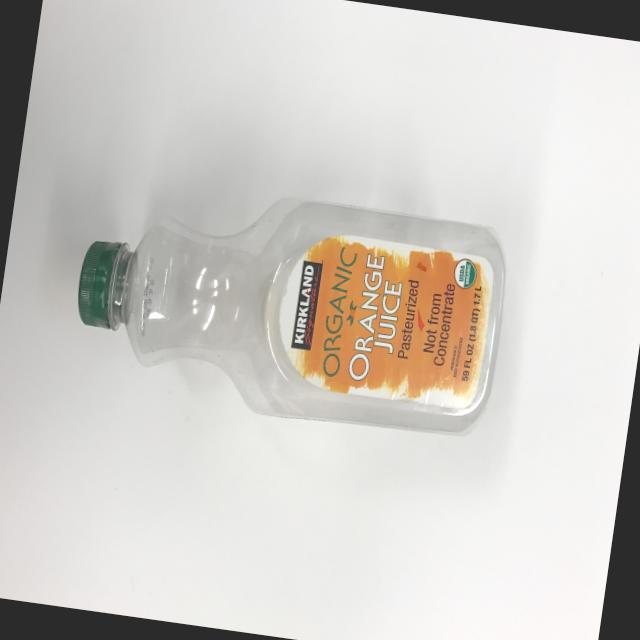Plastic: (14, 124, 530, 520)
